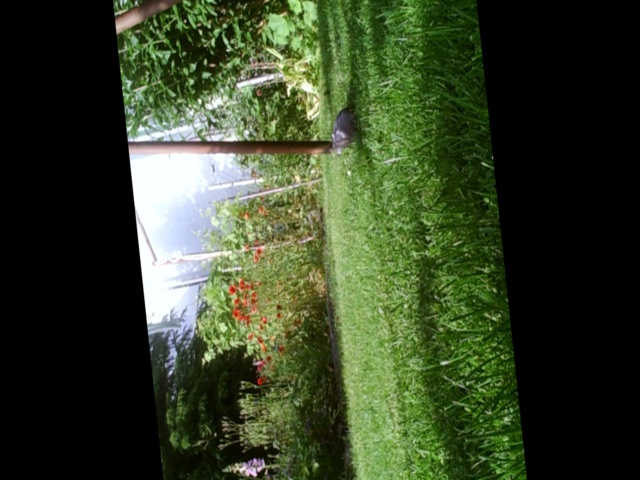Pigeon: (327, 101, 359, 152)
